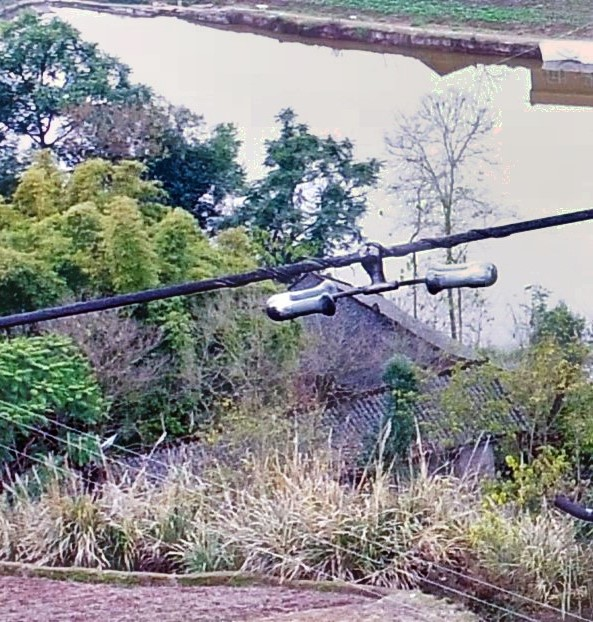Shockproof hammer: (257, 227, 505, 325)
